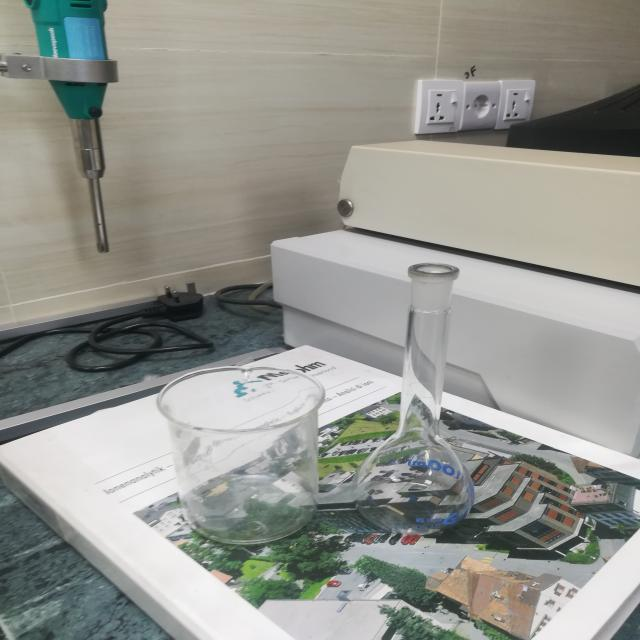Beaker: (142, 355, 334, 554)
Volumetric_Flask: (340, 240, 494, 552)
